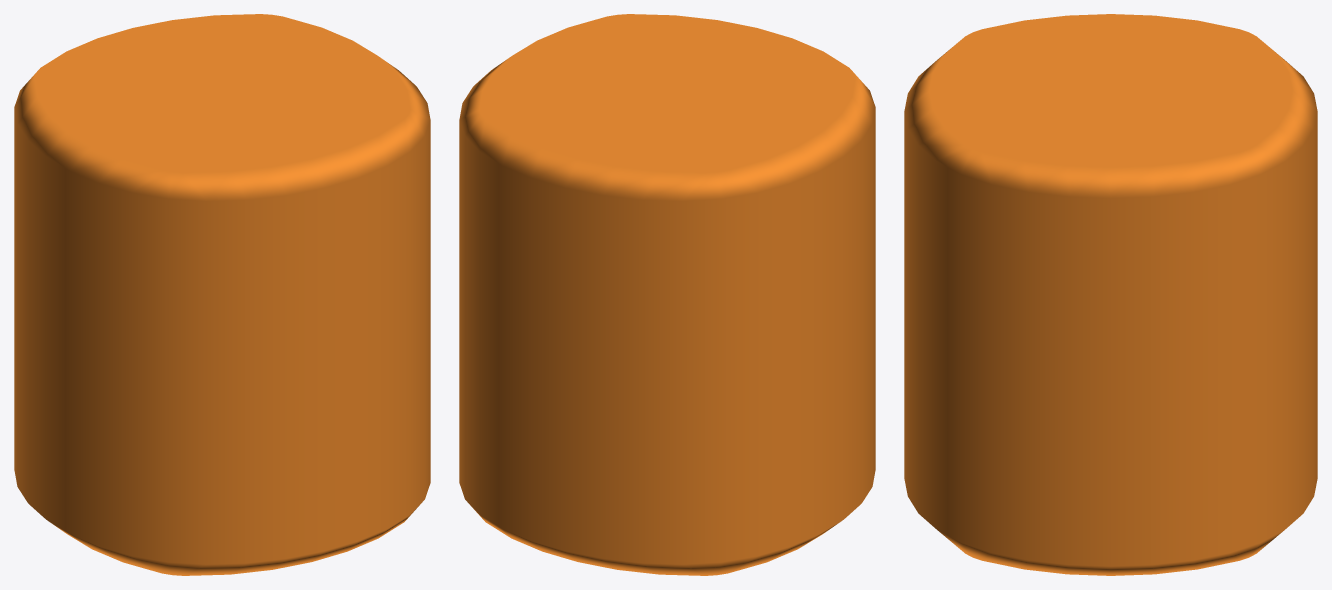
Rendered from 1x1x1_Round.fbx.
The picture shows the model from 3 angles, left to right: view 1: azimuth 30°, elevation 25°; view 2: azimuth 150°, elevation 25°; view 3: azimuth 270°, elevation 25°; orthographic projection.
Parts seen in each view (by area): view 1: 1x1x1_Round; view 2: 1x1x1_Round; view 3: 1x1x1_Round.
Part boxes in pixels (left/top/right/bottom): 1x1x1_Round: left=14, top=14, right=430, bottom=575; 1x1x1_Round: left=459, top=14, right=875, bottom=575; 1x1x1_Round: left=904, top=14, right=1317, bottom=575.
Size of the model in its own units: 0.0917 by 0.1 by 0.0917.
1 material, 1 textured.
